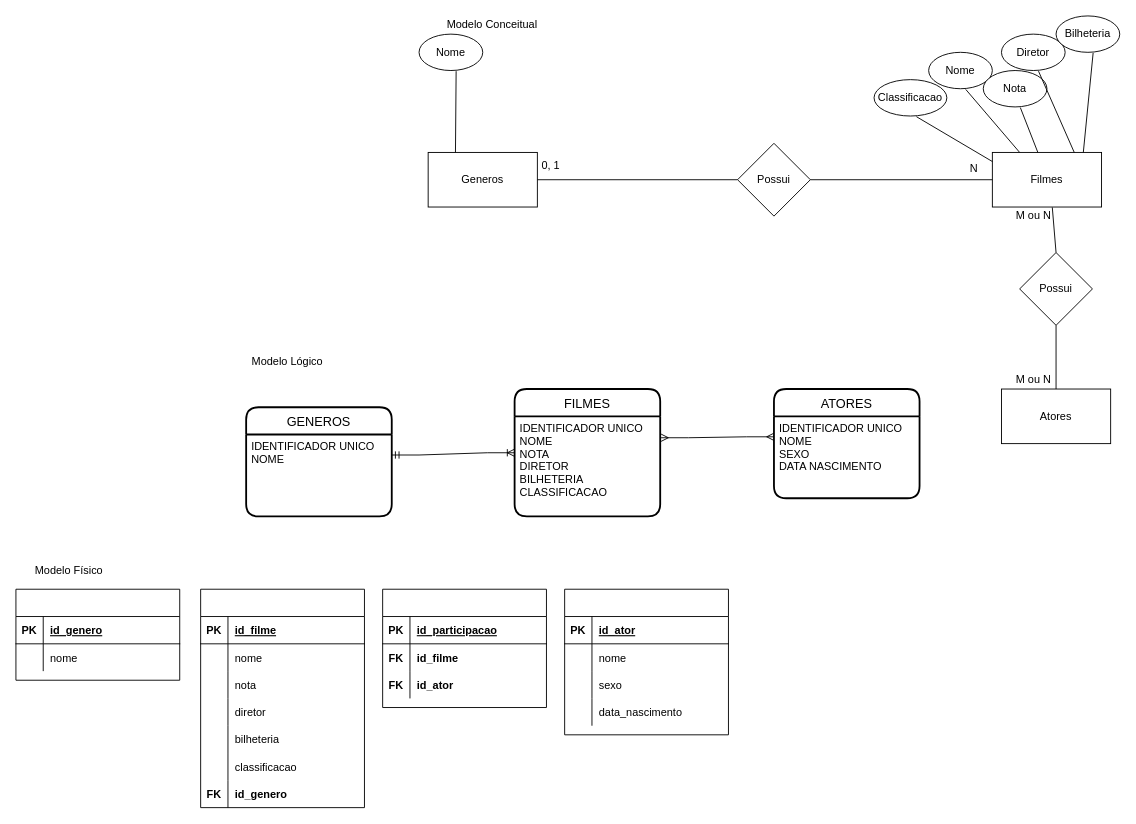
The diagram is 1136 pixels wide and 824 high, and some of its shapes have lost their labels. The box of each missing label's shape, as (x1, y1, x2, y2) in pixels:
letscode_ator: (564, 588, 728, 735)
letscode_filme: (200, 588, 364, 808)
letscode_genero: (15, 588, 180, 680)
letscode_participacao: (382, 588, 546, 708)
